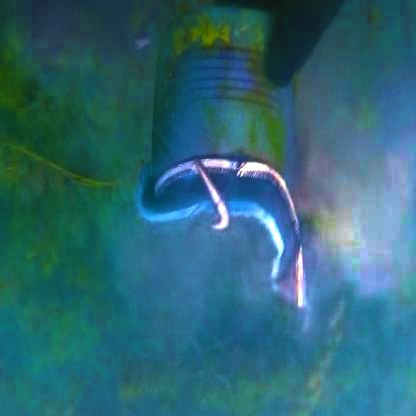misc: (151, 18, 324, 247)
